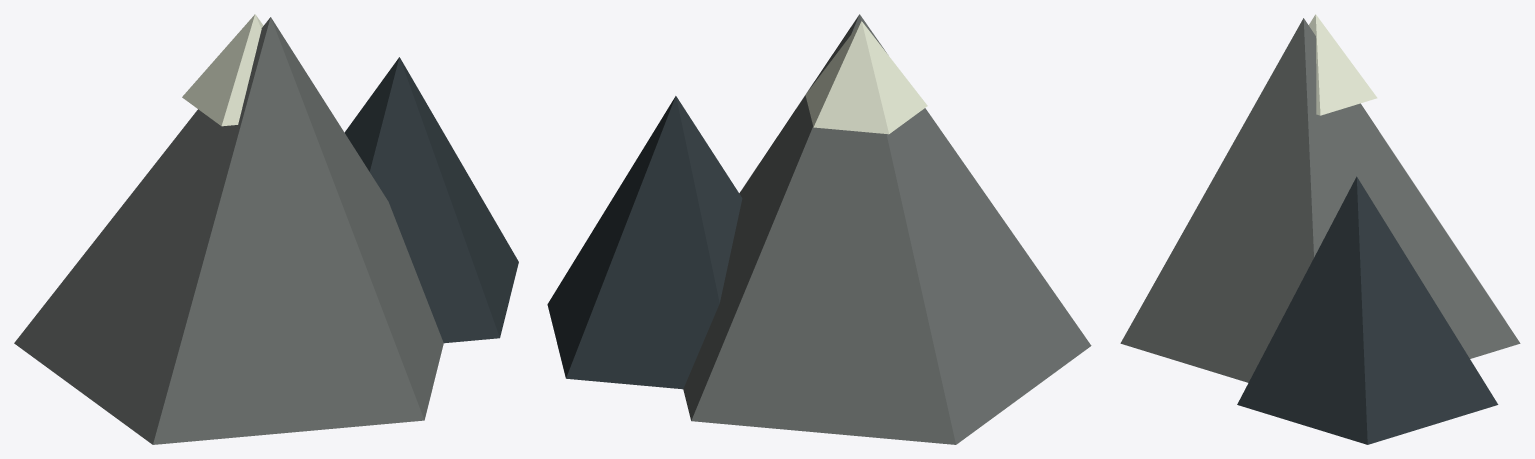
The model's file is Mountain.fbx.
3 renders of one model, left to right at view 1: azimuth 30°, elevation 25°; view 2: azimuth 150°, elevation 25°; view 3: azimuth 270°, elevation 25°, orthographic. The views are drawn at different scales.
Parts seen in each view (by area): view 1: Mountain; view 2: Mountain; view 3: Mountain.
Part boxes in pixels (<box>): Mountain: <box>14,14,518,444</box>; Mountain: <box>547,14,1091,444</box>; Mountain: <box>1120,14,1520,444</box>.
Size of the model in its own units: 111 by 78 by 93.2.
